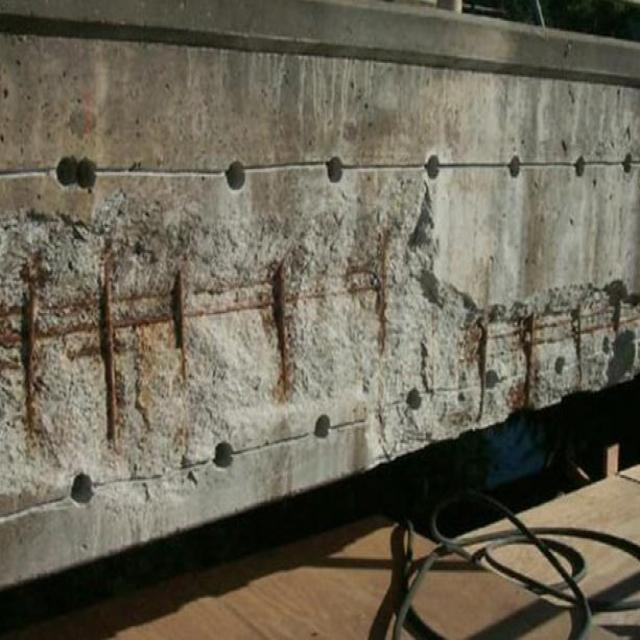corrosion: (459, 313, 541, 417), (92, 245, 126, 467), (19, 260, 46, 442), (346, 236, 387, 355), (264, 270, 293, 398), (164, 269, 195, 387)
